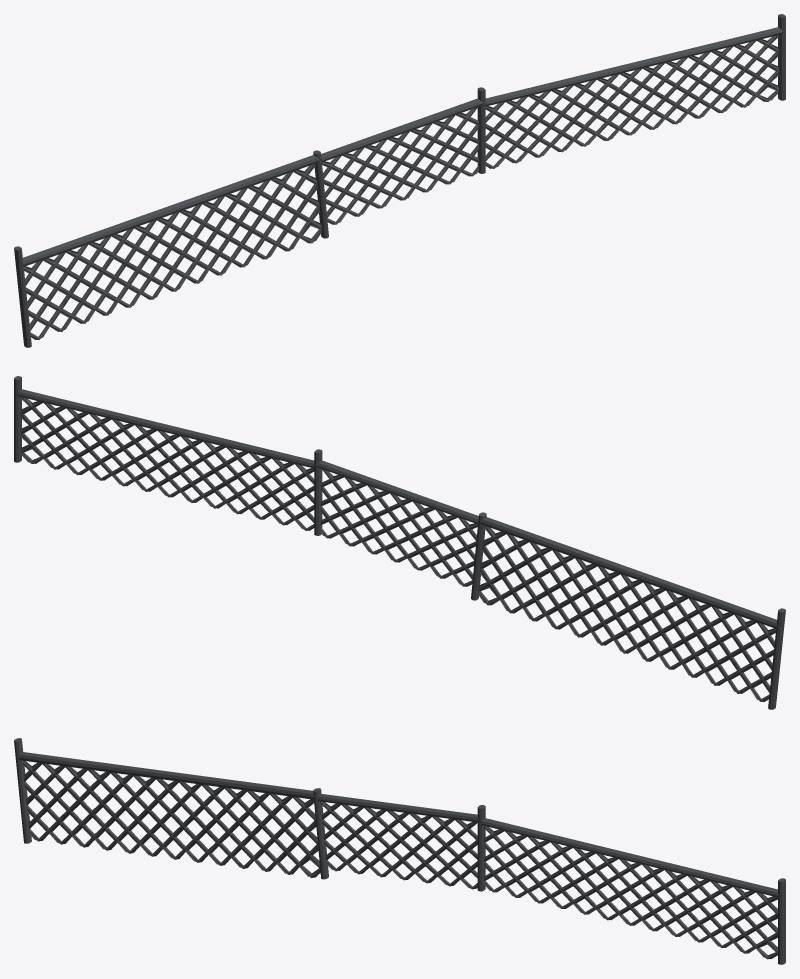
The model's file is fenceFront.fbx.
The picture shows the model from 3 angles, top to bottom: view 1: azimuth 30°, elevation 25°; view 2: azimuth 150°, elevation 25°; view 3: azimuth 330°, elevation 25°; orthographic projection.
Parts seen in each view (by area): view 1: fenceFront; view 2: fenceFront; view 3: fenceFront.
Boxes of the visible parts, x1,y1,x2,y2 form: fenceFront: (14, 14, 785, 347); fenceFront: (14, 376, 785, 709); fenceFront: (14, 738, 785, 964).
Bounding box in the file's own units: 1799 × 326 × 18.94.
